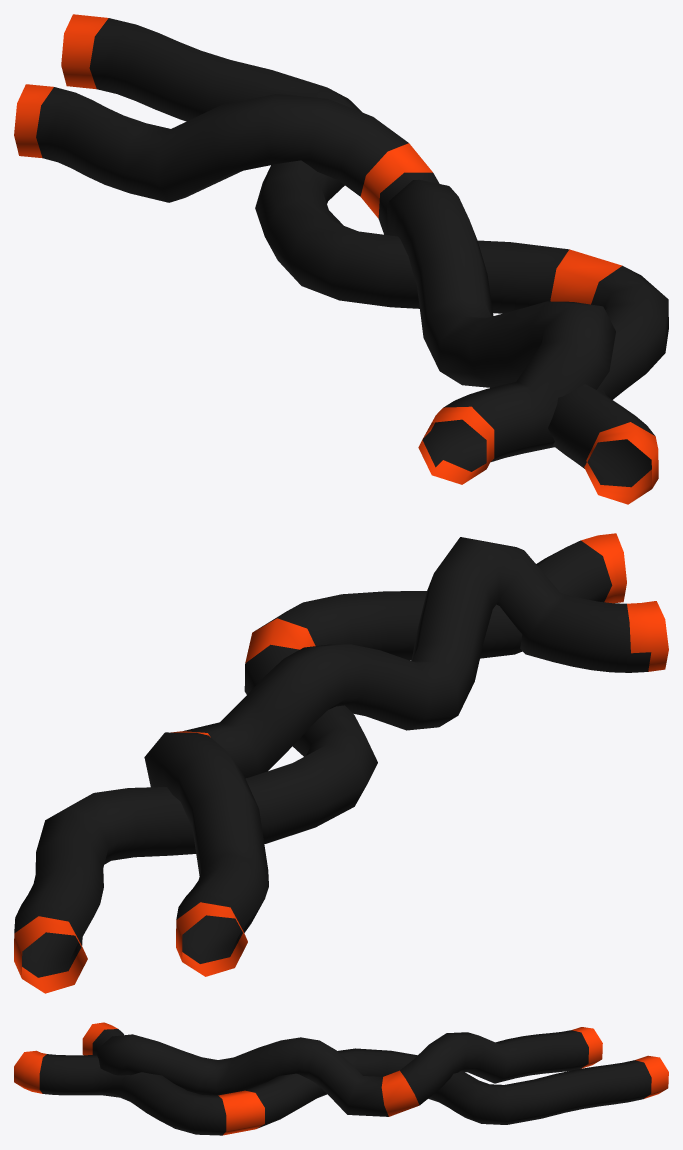
The model's file is Cables.fbx.
The picture shows the model from 3 angles, top to bottom: view 1: azimuth 30°, elevation 25°; view 2: azimuth 150°, elevation 25°; view 3: azimuth 270°, elevation 25°; orthographic projection. The views are drawn at different scales.
Visible parts, largest first — view 1: Cables; view 2: Cables; view 3: Cables.
Boxes of the visible parts, x1,y1,x2,y2 form: Cables: [14, 14, 668, 504]; Cables: [14, 533, 668, 993]; Cables: [14, 1022, 668, 1135].
Size of the model in its own units: 67.86 by 25.41 by 211.
